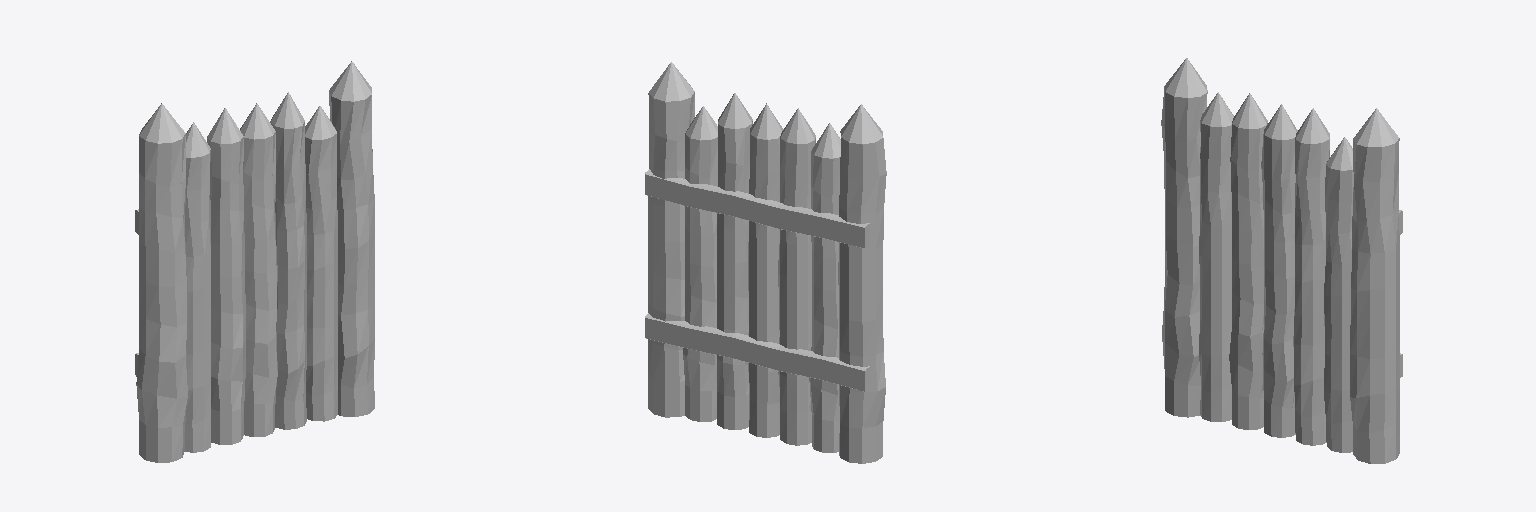
File: FortWall.obj
3 renders of one model, left to right at view 1: azimuth 30°, elevation 25°; view 2: azimuth 150°, elevation 25°; view 3: azimuth 330°, elevation 25°, orthographic.
Visible parts, largest first — view 1: Wall1:pCube167; view 2: Wall1:pCube167; view 3: Wall1:pCube167.
Part boxes in pixels (x1,y1,x2,y2): Wall1:pCube167: (135,61,374,462); Wall1:pCube167: (645,62,886,463); Wall1:pCube167: (1161,58,1402,463).
Bounding box in the file's own units: 353 × 509 × 66.43.